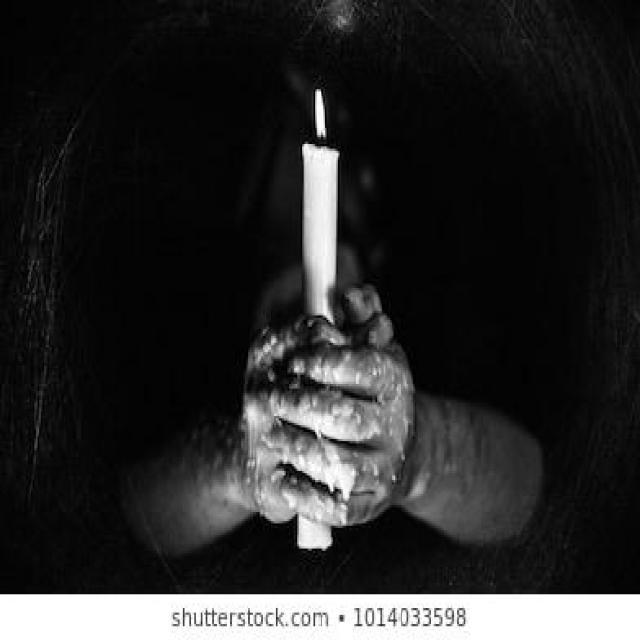Fire: (314, 86, 326, 143)
